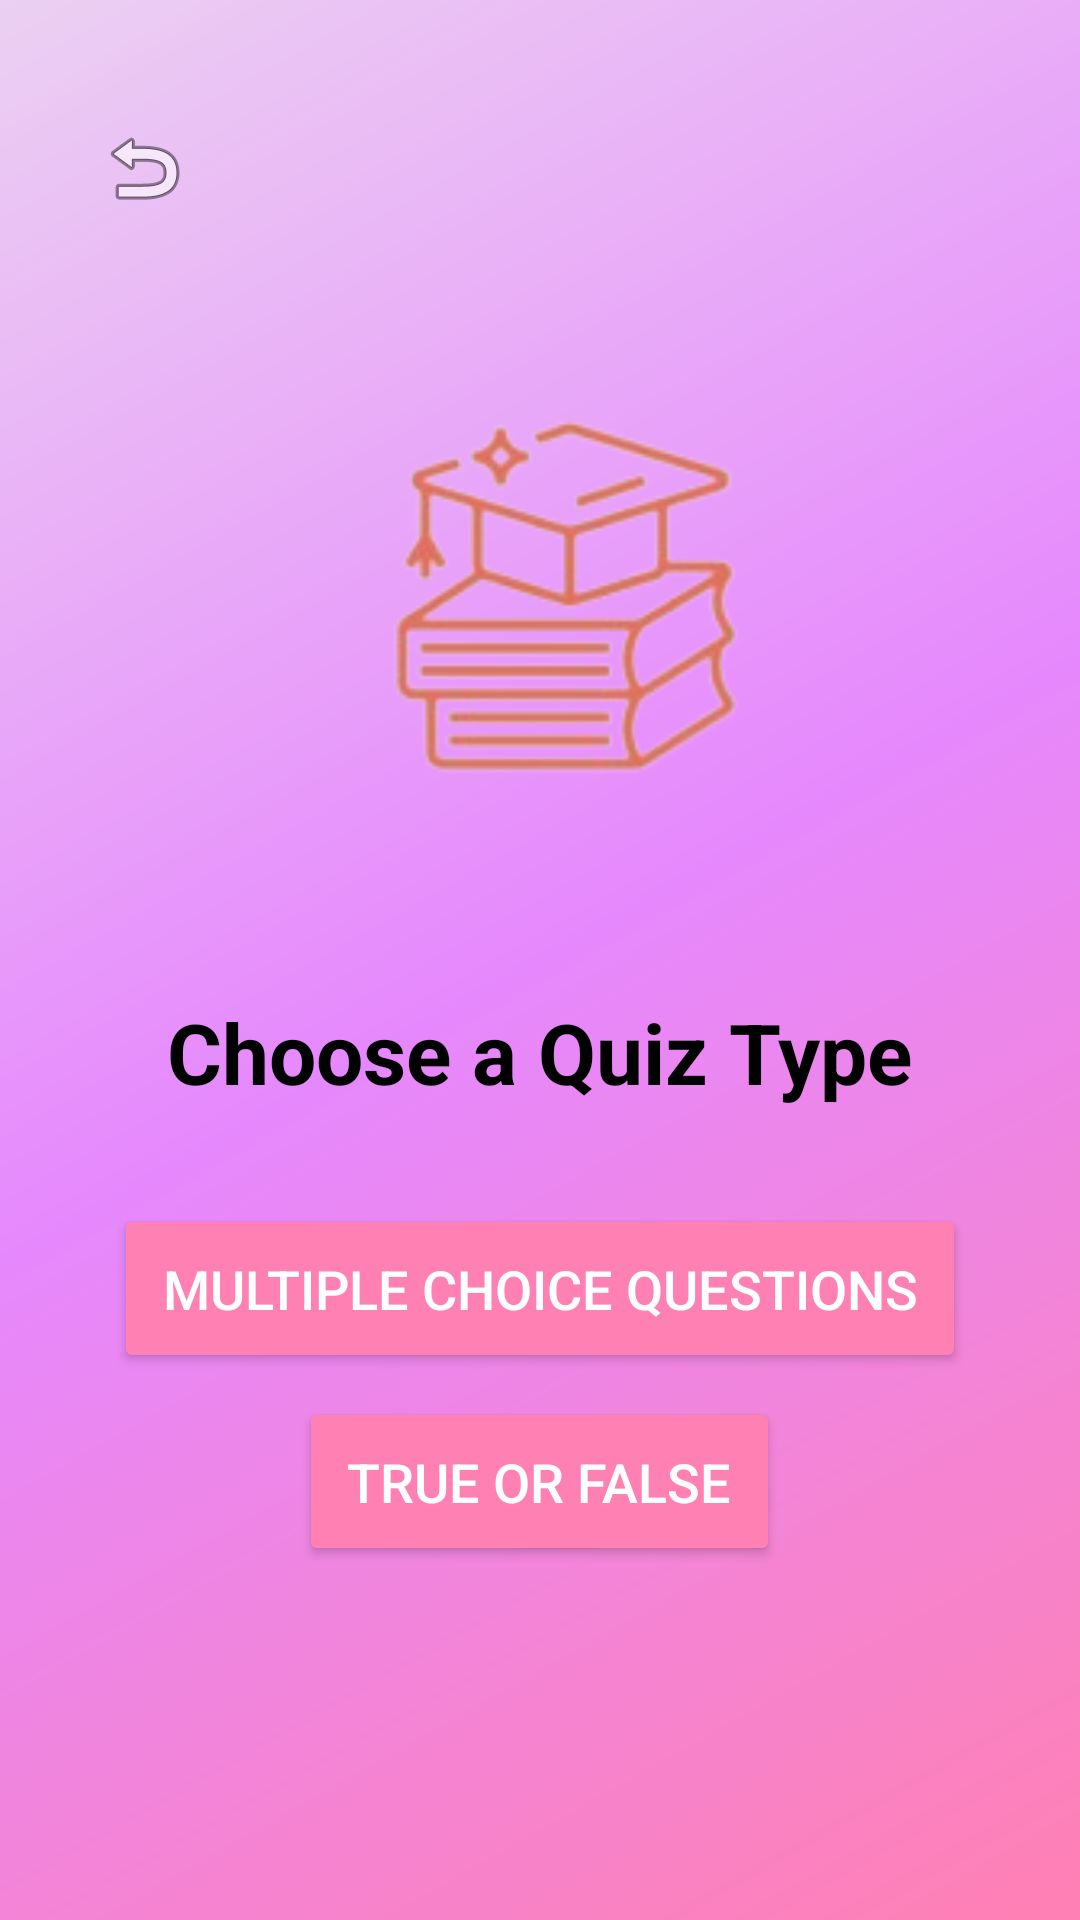

Icons on this 1080x1920 Android screen, each with the point to tap as (x=x, y=y):
revert: (x=145, y=168)
